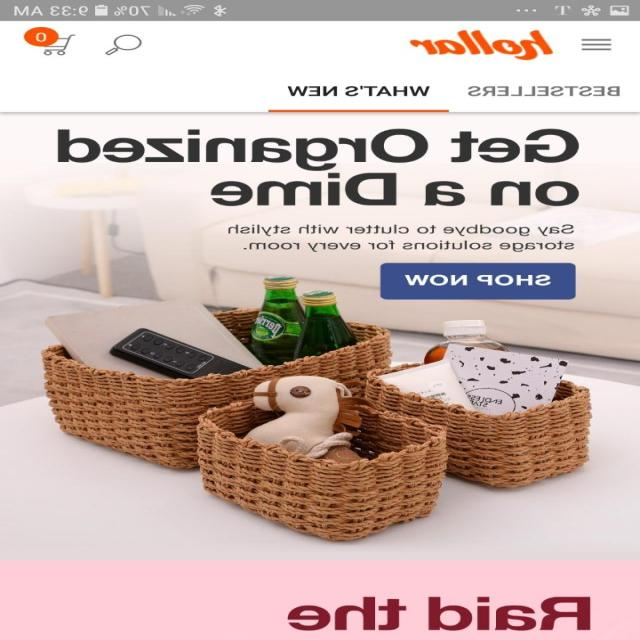BackgroundImage: (1, 112, 640, 640)
Icon: (24, 27, 76, 56), (104, 35, 142, 56), (580, 38, 612, 51)
Image: (410, 30, 554, 60)
Text: (58, 128, 580, 206), (287, 596, 591, 630), (228, 224, 576, 252), (468, 86, 620, 97), (288, 85, 431, 96)
TextButton: (380, 262, 577, 300)
